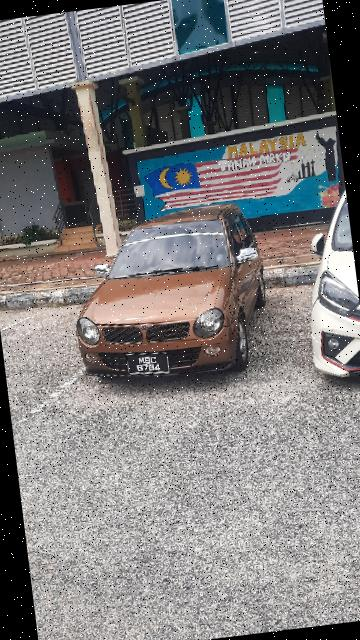License_Plate: (120, 343, 176, 383)
car: (57, 199, 285, 400)
